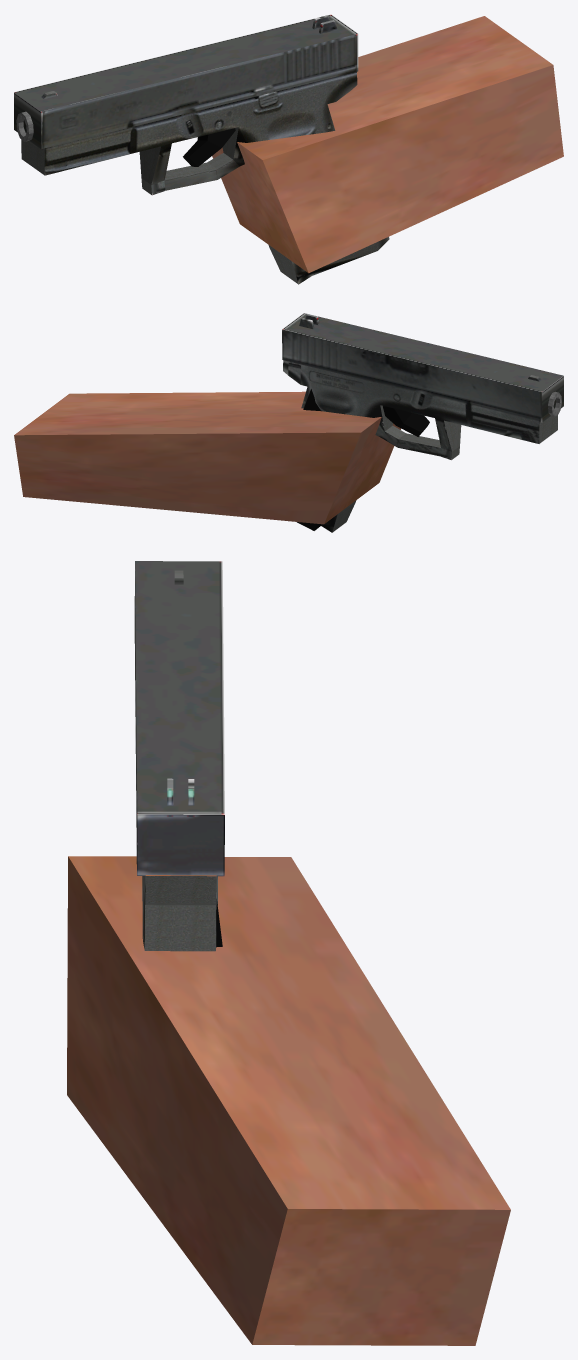
File: pistol_000037.obj
3 views of the same model, one above another, from view 1: azimuth 30°, elevation 25°; view 2: azimuth 150°, elevation 25°; view 3: azimuth 270°, elevation 25° (orthographic). The views are drawn at different scales.
Parts seen in each view (by area): view 1: Cube, Cube.001, Cube.003; view 2: Cube, Cube.001, Cube.003, Cube.002; view 3: Cube, Cube.001.
Part boxes in pixels (left/top/right/bottom): Cube: left=16, top=16, right=563, bottom=284; Cube.001: left=14, top=14, right=358, bottom=148; Cube.003: left=183, top=128, right=235, bottom=166; Cube: left=14, top=360, right=561, bottom=532; Cube.001: left=282, top=313, right=563, bottom=422; Cube.003: left=383, top=406, right=429, bottom=436; Cube.002: left=297, top=389, right=321, bottom=530; Cube: left=67, top=856, right=510, bottom=1345; Cube.001: left=134, top=561, right=224, bottom=876.
Bounding box in the file's own units: 1.74 × 0.734 × 0.7267.
